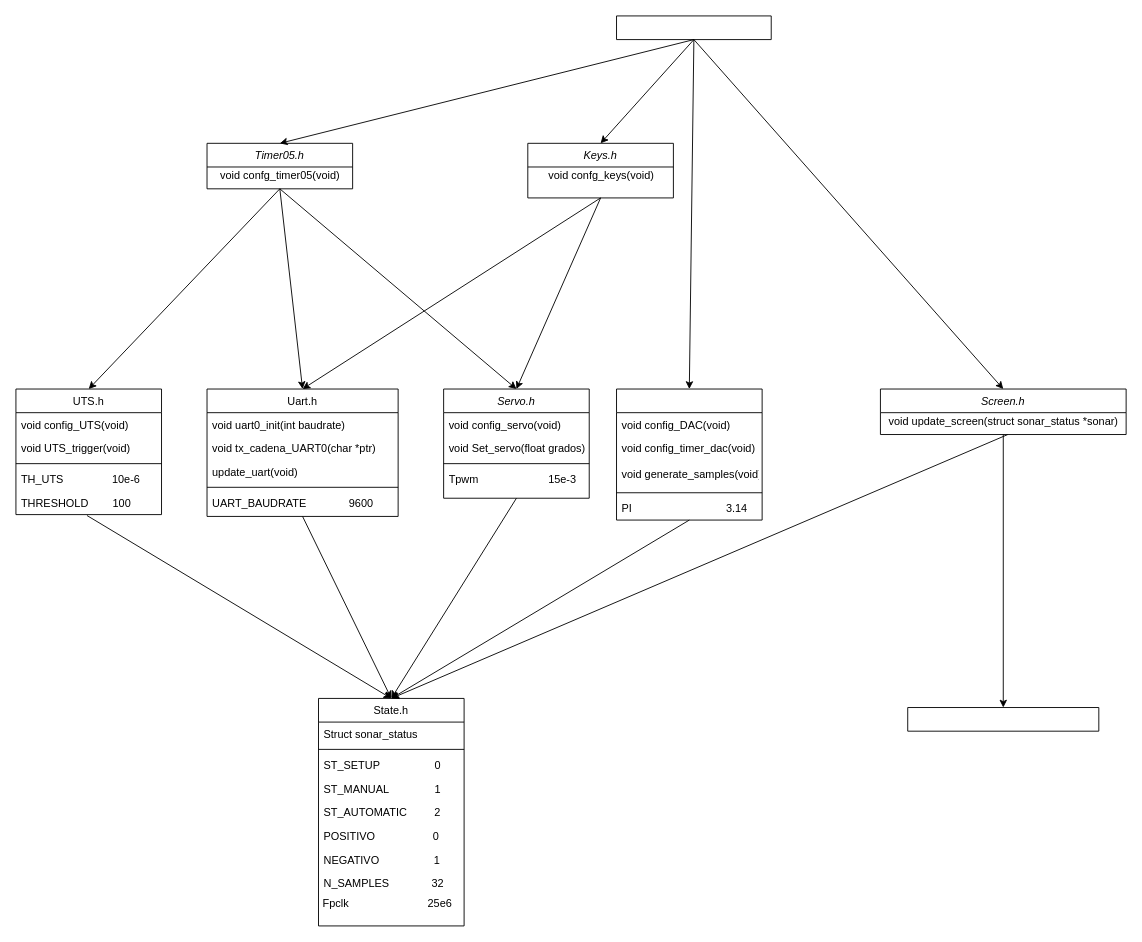
The diagram is 1142 pixels wide and 942 high, and some of its shapes have lost their labels. Each missing label, with the box of its shape:
DAC.h: (616, 388, 762, 520)
GLCD.h: (907, 707, 1099, 731)
Main: (616, 15, 771, 40)
